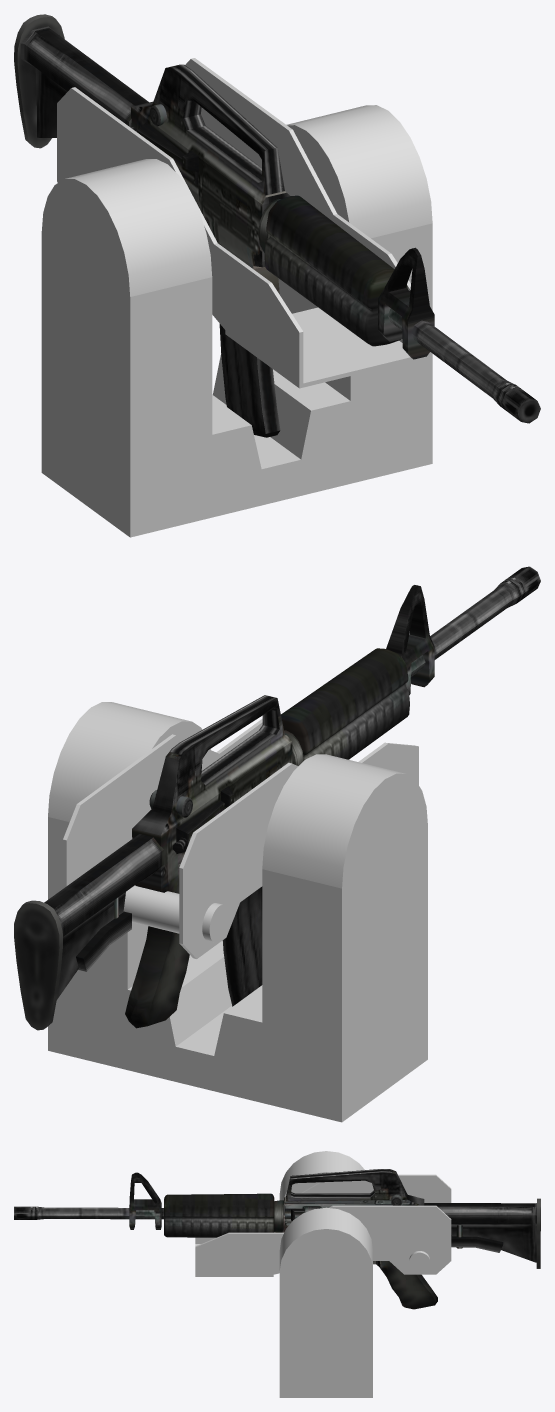
Rendered from Turret2.FBX.
3 renders of one model, top to bottom at view 1: azimuth 30°, elevation 25°; view 2: azimuth 150°, elevation 25°; view 3: azimuth 270°, elevation 25°, orthographic. The views are drawn at different scales.
Parts seen in each view (by area): view 1: group_7, M4A1_Colt_02, group_8, group_9, group_5, group_2, group_4; view 2: group_7, M4A1_Colt_02, group_8, group_9, group_5, group_2, group_3; view 3: M4A1_Colt_02, group_8, group_2, group_5, group_7, group_3.
Part boxes in pixels (x1,y1,x2,y2): group_7: (41,159,212,537); M4A1_Colt_02: (14,14,540,437); group_8: (278,105,432,483); group_9: (212,353,350,517); group_5: (57,87,303,384); group_2: (185,58,410,342); group_4: (225,307,422,388); group_7: (262,754,427,1122); M4A1_Colt_02: (14,566,540,1030); group_8: (48,702,210,1069); group_9: (127,940,262,1102); group_5: (179,742,418,958); group_2: (63,718,262,888); group_3: (123,885,228,942); M4A1_Colt_02: (14,1169,540,1309); group_8: (279,1207,372,1397); group_2: (195,1205,451,1274); group_5: (195,1174,451,1243); group_7: (279,1151,364,1200); group_3: (409,1251,429,1271).
Bounding box in the file's own units: 30.6 × 34.6 × 87.54.
